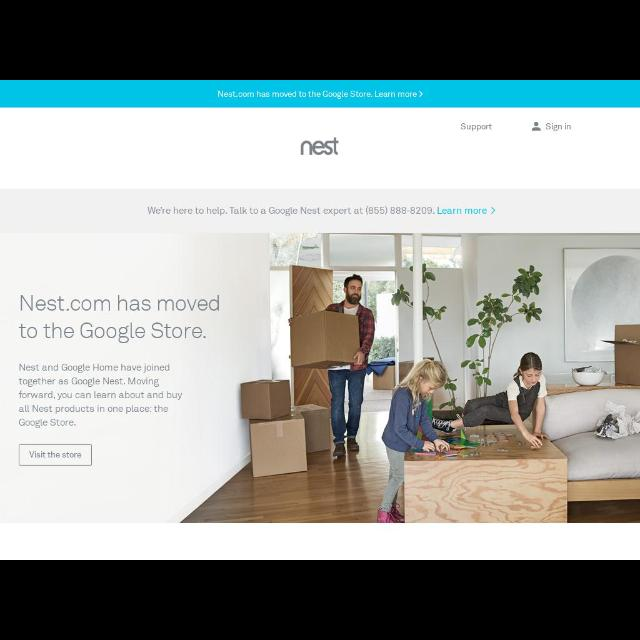backgroundimage: (170, 233, 630, 522)
icon: (532, 122, 540, 130), (490, 206, 496, 214), (419, 90, 423, 98)
image: (300, 137, 340, 155)
text: (20, 322, 206, 343), (21, 294, 219, 312), (147, 206, 487, 216), (218, 90, 418, 100), (19, 390, 182, 400), (19, 363, 169, 373), (19, 405, 169, 415), (19, 378, 160, 387), (19, 419, 76, 429), (29, 450, 81, 458), (461, 124, 493, 132), (547, 122, 571, 132)
textbutton: (19, 444, 92, 466)
